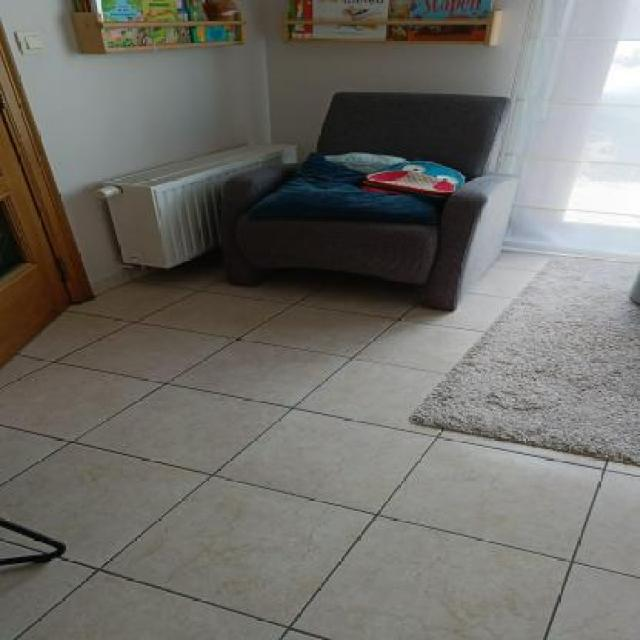Floor: (0, 245, 639, 639), (0, 526, 57, 560)
